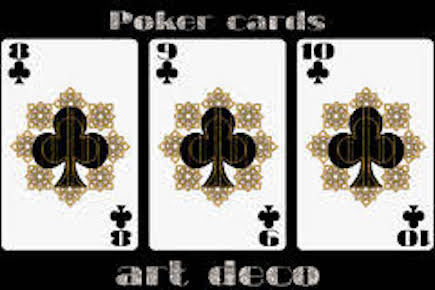NineOfClubs: (150, 38, 289, 251)
TenOfClubs: (296, 35, 433, 251)
